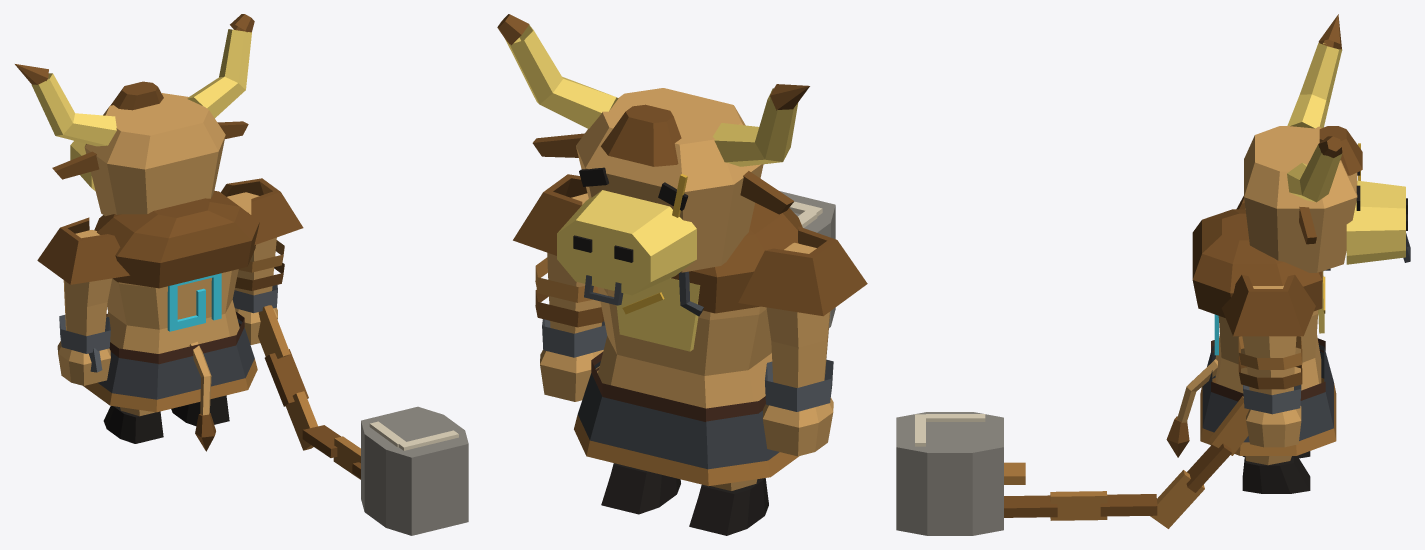
The model's file is CH_Asterion_BronzeBull.fbx.
3 views of the same model, side by side, from view 1: azimuth 30°, elevation 25°; view 2: azimuth 150°, elevation 25°; view 3: azimuth 270°, elevation 25° (orthographic). The views are drawn at different scales.
Visible parts, largest first — view 1: Body, Head, Chain, ArmL, ArmR, LegL, LegR; view 2: Head, Body, ArmL, ArmR, LegL, LegR, Chain; view 3: Head, Chain, Body, ArmR, LegR.
Boxes of the visible parts, x1=… form: Body: x1=83, y1=190, x2=259, y2=451; Head: x1=15, y1=14, x2=254, y2=216; Chain: x1=258, y1=305, x2=468, y2=535; ArmL: x1=37, y1=217, x2=129, y2=385; ArmR: x1=221, y1=178, x2=303, y2=344; LegL: x1=103, y1=406, x2=163, y2=443; LegR: x1=171, y1=395, x2=229, y2=425; Head: x1=497, y1=14, x2=809, y2=305; Body: x1=574, y1=203, x2=802, y2=486; ArmL: x1=738, y1=226, x2=867, y2=456; ArmR: x1=513, y1=174, x2=607, y2=401; LegL: x1=689, y1=478, x2=768, y2=535; LegR: x1=601, y1=463, x2=680, y2=514; Chain: x1=779, y1=191, x2=835, y2=327; Head: x1=1244, y1=14, x2=1410, y2=272; Chain: x1=896, y1=396, x2=1249, y2=535; Body: x1=1166, y1=209, x2=1336, y2=457; ArmR: x1=1221, y1=274, x2=1315, y2=447; LegR: x1=1242, y1=456, x2=1310, y2=493.
Bounding box in the file's own units: 1.29 × 2.1 × 1.81.
